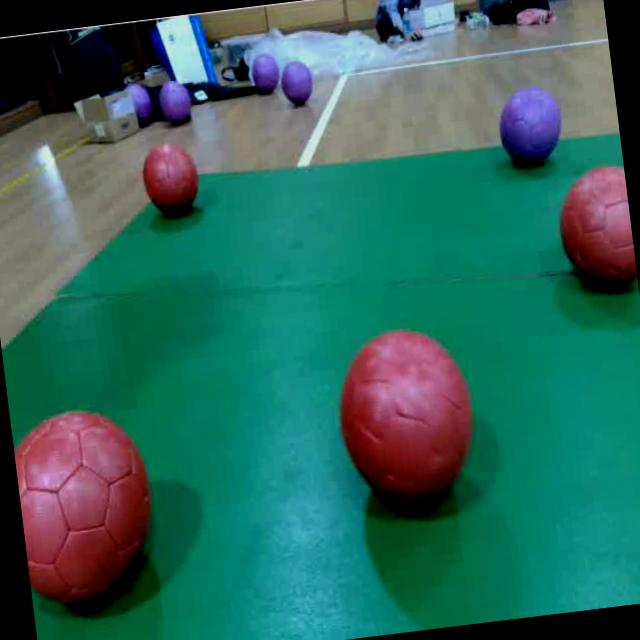purple_ball: (492, 79, 570, 172), (157, 78, 196, 128), (278, 56, 316, 106), (122, 79, 156, 126), (250, 52, 280, 94)
red_ball: (9, 398, 165, 622), (324, 316, 484, 514), (552, 158, 638, 296), (136, 140, 204, 220)
